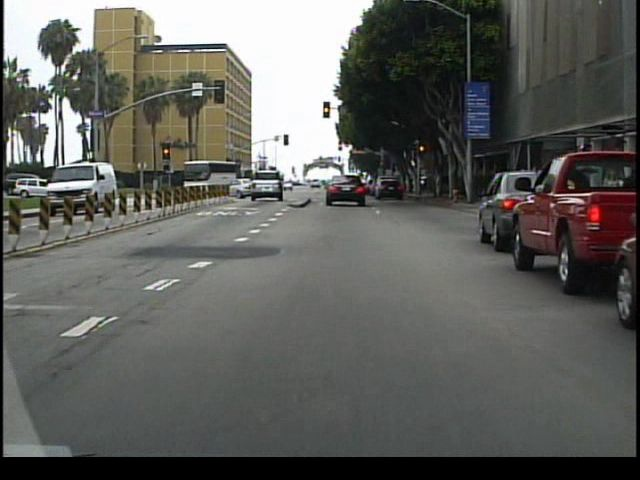person: (55, 170, 69, 202), (76, 174, 88, 209), (70, 173, 82, 206)
